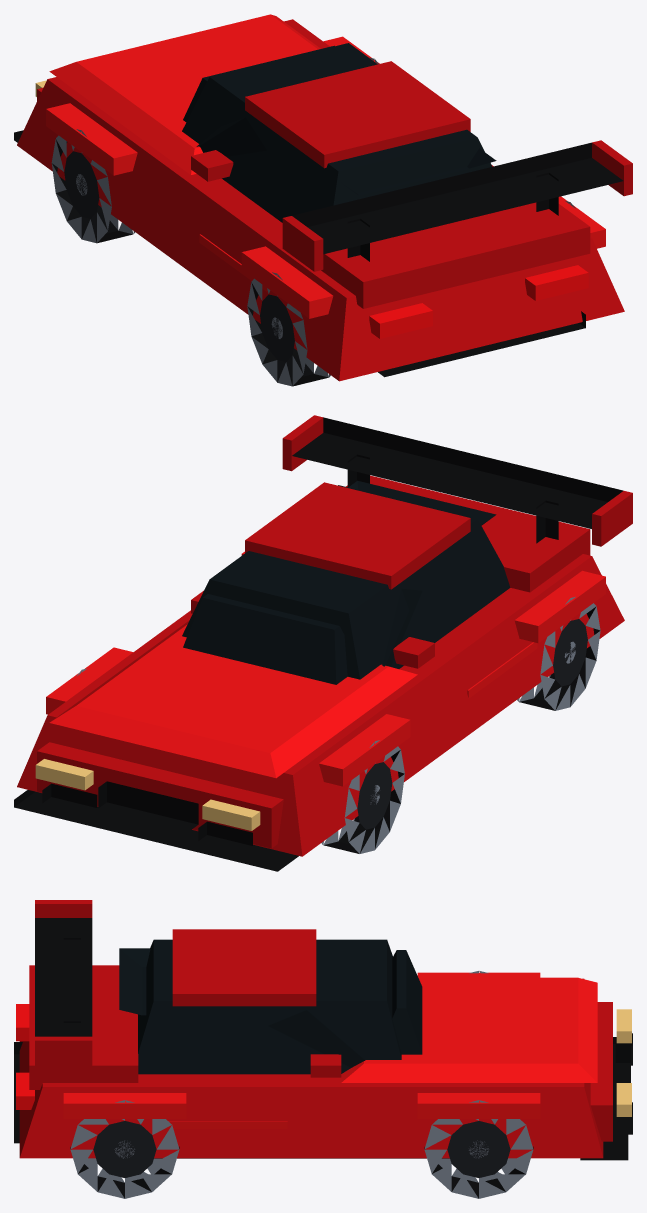
The model's file is coastal_car_v2.obj.
3 views of the same model, one above another, from view 1: azimuth 30°, elevation 25°; view 2: azimuth 150°, elevation 25°; view 3: azimuth 270°, elevation 25° (orthographic). The views are drawn at different scales.
Size of the model in its own units: 1.74 by 0.995 by 3.24.
